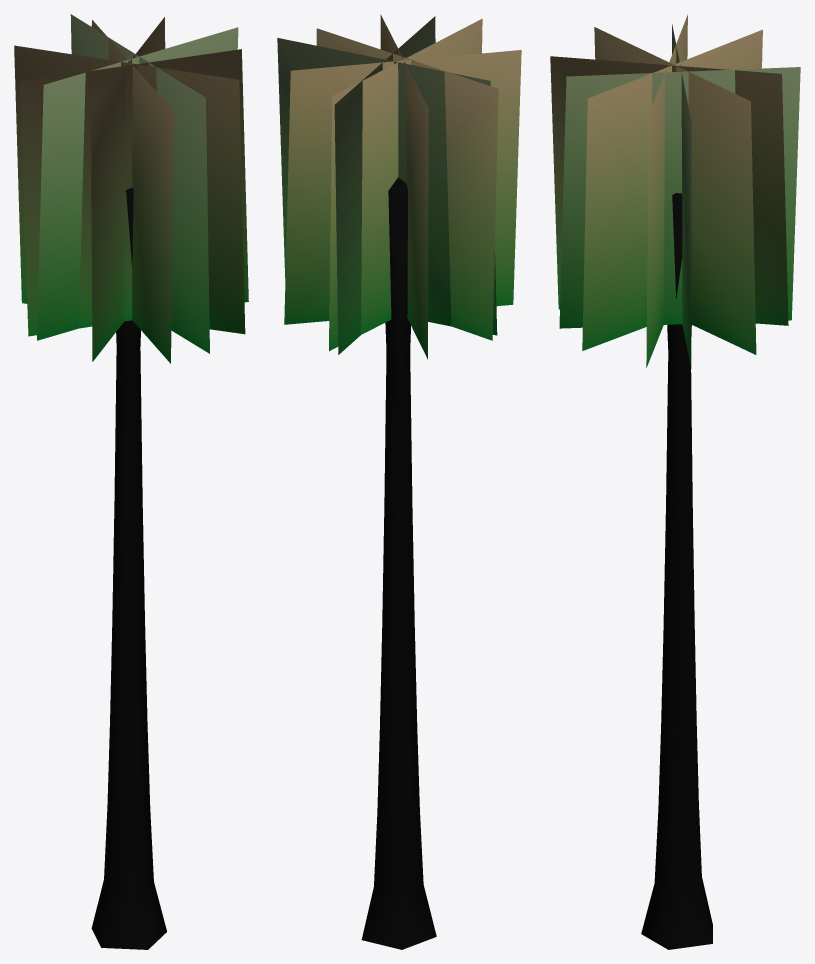
File: Super_Palm_15.fbx
The picture shows the model from 3 angles, left to right: view 1: azimuth 30°, elevation 25°; view 2: azimuth 150°, elevation 25°; view 3: azimuth 270°, elevation 25°; orthographic projection.
Parts seen in each view (by area): view 1: Tree_15; view 2: Tree_15; view 3: Tree_15.
Part boxes in pixels (left/top/right/bottom): Tree_15: left=14, top=14, right=248, bottom=949; Tree_15: left=277, top=14, right=521, bottom=949; Tree_15: left=550, top=14, right=800, bottom=949.
Bounding box in the file's own units: 538 × 2042 × 533.
